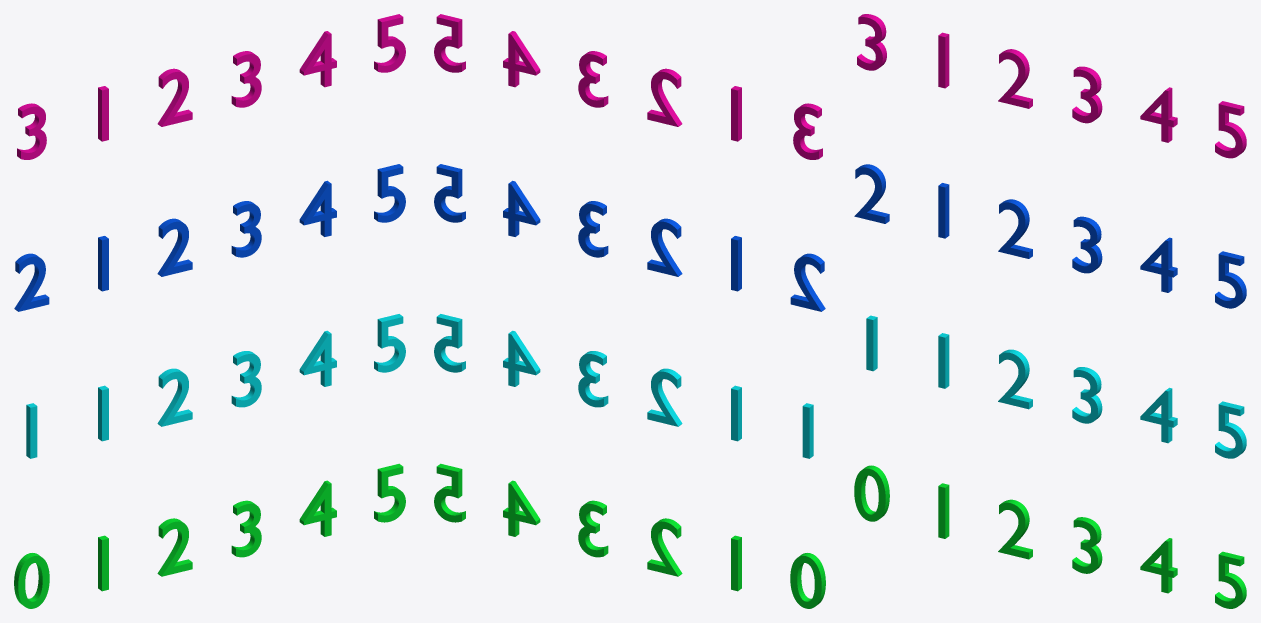
The model's file is modelvh.glb.
3 renders of one model, left to right at view 1: azimuth 30°, elevation 25°; view 2: azimuth 150°, elevation 25°; view 3: azimuth 330°, elevation 25°, orthographic.
Parts seen in each view (by area): view 1: nx, nx.005, nx.002, nx.010, nx.020, nx.015, nx.022, nx.007, nx.012, nx.017, nx.018, nx.013 (+12 smaller); view 2: nx, nx.005, nx.002, nx.010, nx.020, nx.015, nx.022, nx.007, nx.012, nx.017, nx.018, nx.013 (+12 smaller); view 3: nx, nx.023, nx.018, nx.008, nx.013, nx.011, nx.016, nx.006, nx.021, nx.003, nx.015, nx.002 (+12 smaller).
Boxes of the visible parts, x1,y1,x2,y2 form: nx: [14, 553, 49, 608]; nx.005: [157, 518, 192, 576]; nx.002: [14, 253, 49, 311]; nx.010: [157, 368, 192, 426]; nx.020: [157, 68, 192, 126]; nx.015: [157, 218, 192, 276]; nx.022: [299, 31, 336, 87]; nx.007: [299, 480, 336, 536]; nx.012: [299, 330, 336, 386]; nx.017: [299, 180, 336, 236]; nx.018: [374, 164, 405, 222]; nx.013: [374, 314, 405, 372]; nx: [790, 553, 825, 608]; nx.005: [647, 518, 682, 576]; nx.002: [790, 253, 825, 311]; nx.010: [647, 368, 682, 426]; nx.020: [647, 68, 682, 126]; nx.015: [647, 218, 682, 276]; nx.022: [503, 31, 540, 87]; nx.007: [503, 480, 540, 536]; nx.012: [503, 330, 540, 386]; nx.017: [503, 180, 540, 236]; nx.018: [434, 164, 465, 222]; nx.013: [434, 314, 465, 372]; nx: [854, 465, 889, 521]; nx.023: [1215, 101, 1246, 158]; nx.018: [1215, 251, 1246, 308]; nx.008: [1215, 551, 1246, 608]; nx.013: [1215, 401, 1246, 458]; nx.011: [1072, 367, 1102, 423]; nx.016: [1072, 216, 1102, 273]; nx.006: [1072, 517, 1102, 573]; nx.021: [1072, 66, 1102, 123]; nx.003: [857, 14, 886, 70]; nx.015: [998, 199, 1032, 258]; nx.002: [854, 164, 889, 223].
Size of the model in its own units: 2.71 by 3.35 by 0.05.
